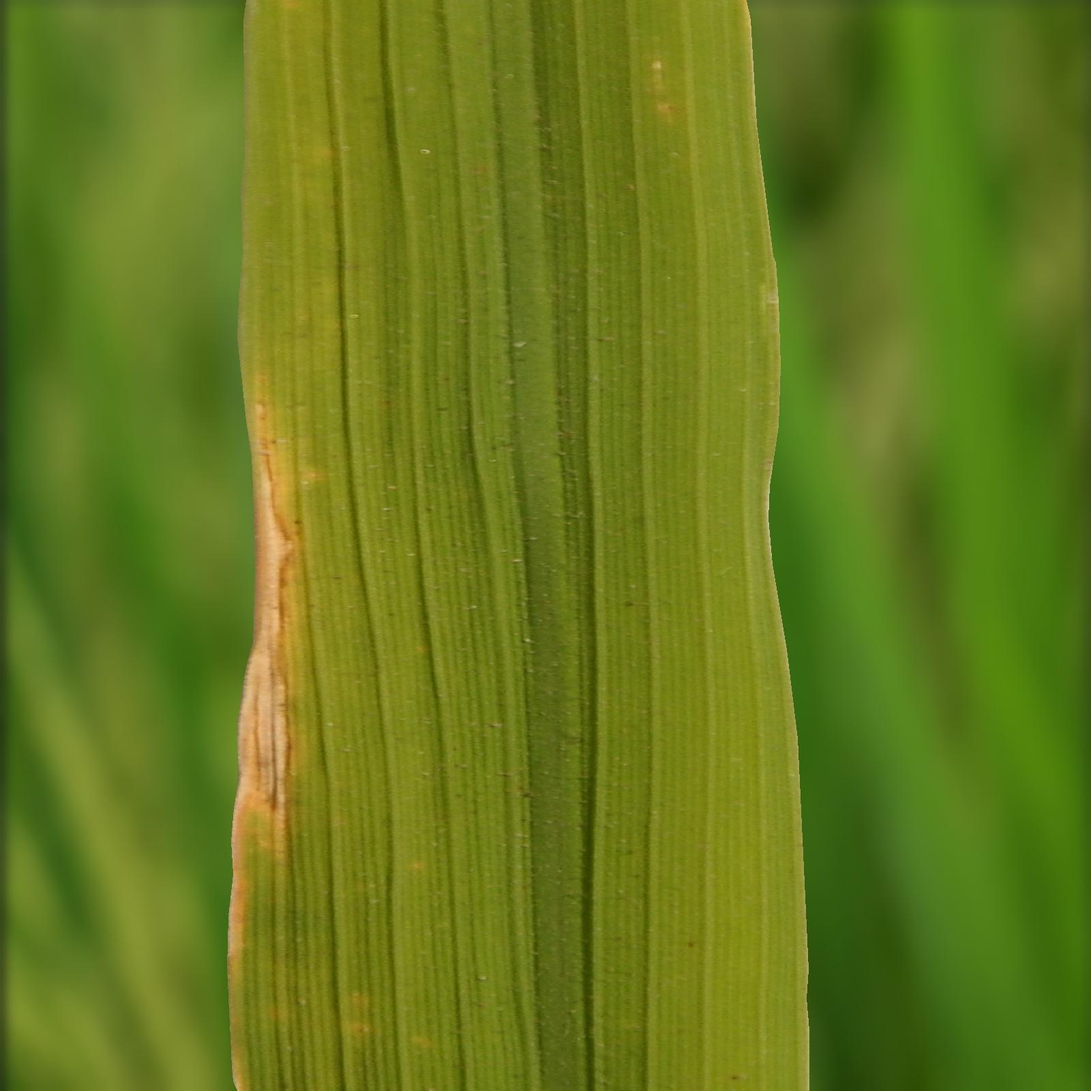BLS: (233, 369, 327, 873)
LEAF: (227, 0, 809, 1090)
